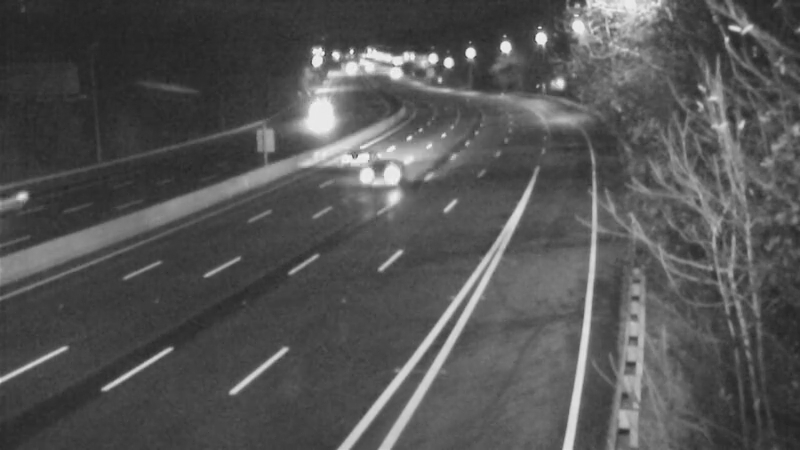vehicle: (322, 112, 402, 192), (334, 133, 414, 213), (1, 162, 63, 242), (367, 48, 417, 98), (302, 95, 352, 145)
